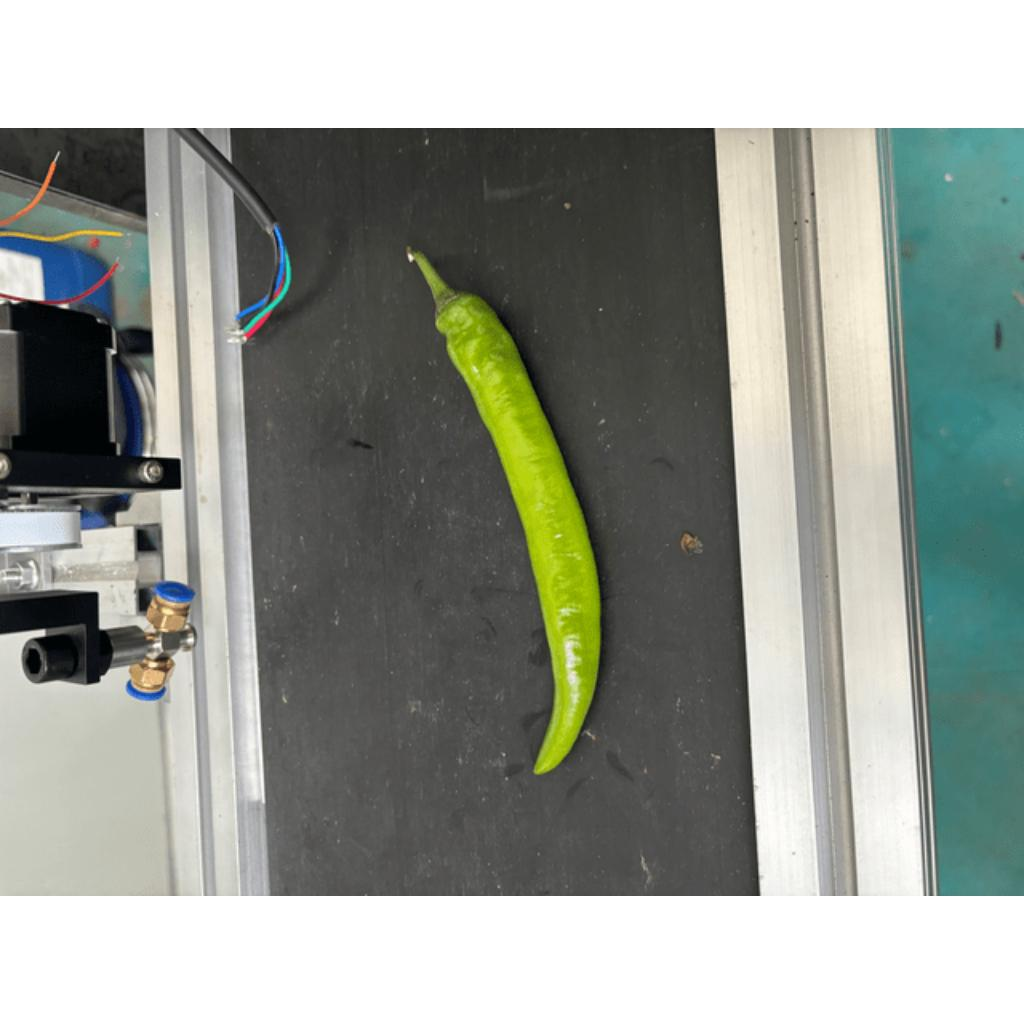chili: (432, 286, 606, 776)
